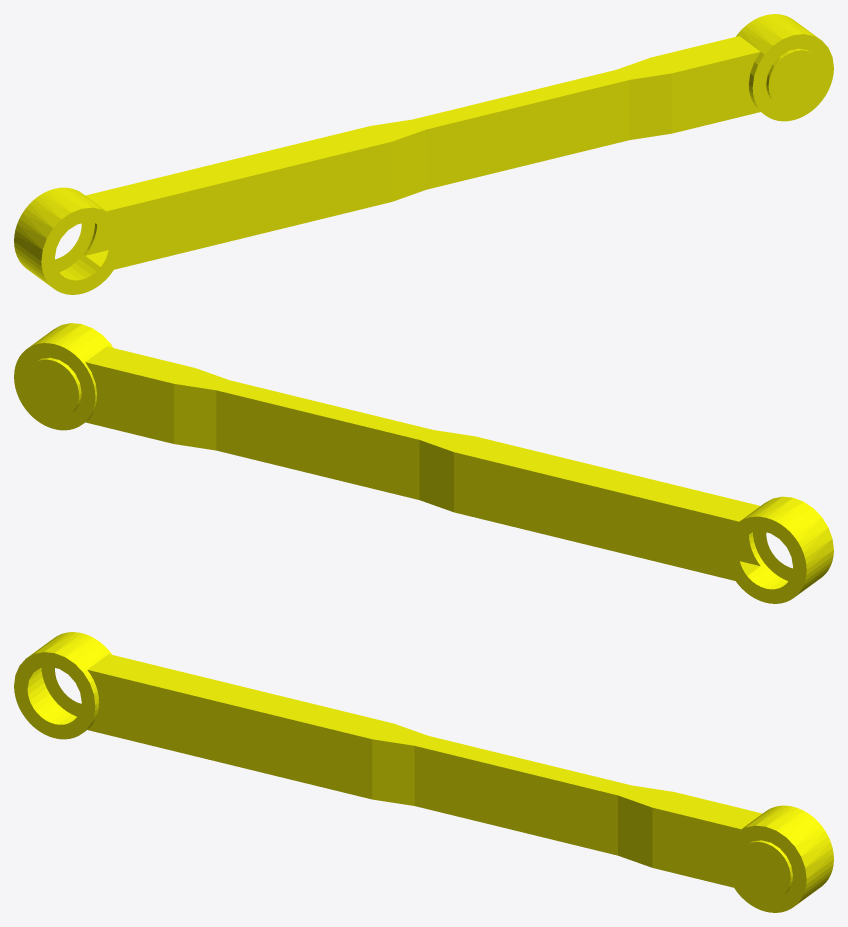
3 views of the same model, one above another, from view 1: azimuth 30°, elevation 25°; view 2: azimuth 150°, elevation 25°; view 3: azimuth 330°, elevation 25° (orthographic).
Visible parts, largest first — view 1: node; view 2: node; view 3: node.
Boxes of the visible parts, left/top/right/bottom form: node: left=14, top=14, right=833, bottom=294; node: left=14, top=323, right=833, bottom=603; node: left=14, top=632, right=833, bottom=912.
Bounding box in the file's own units: 1170 × 120 × 138.
